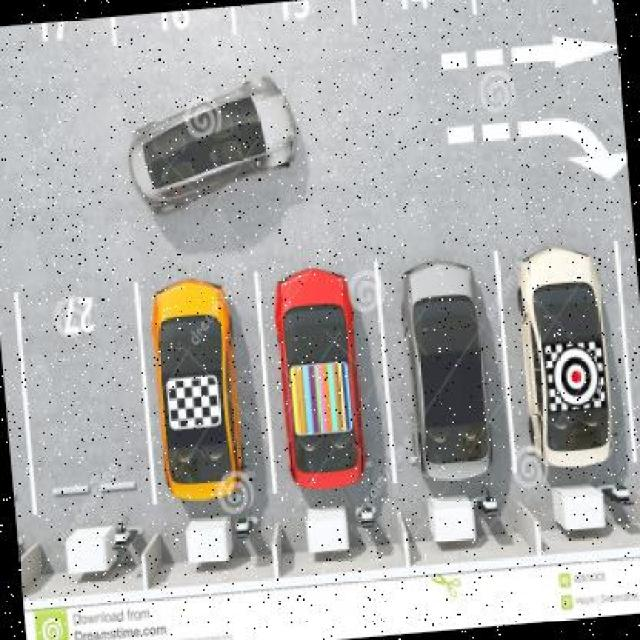Car: (498, 221, 632, 501), (133, 260, 264, 523), (255, 253, 375, 521), (389, 264, 515, 506), (113, 87, 324, 224)
Empty: (26, 263, 160, 534)
